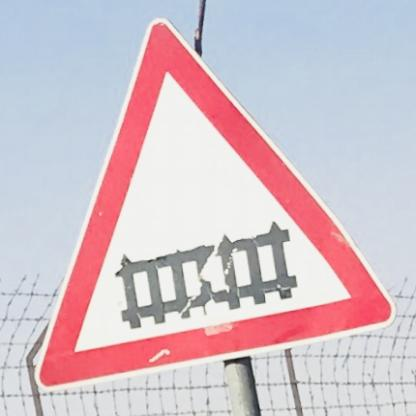Railway Crossing: (35, 10, 401, 392)
